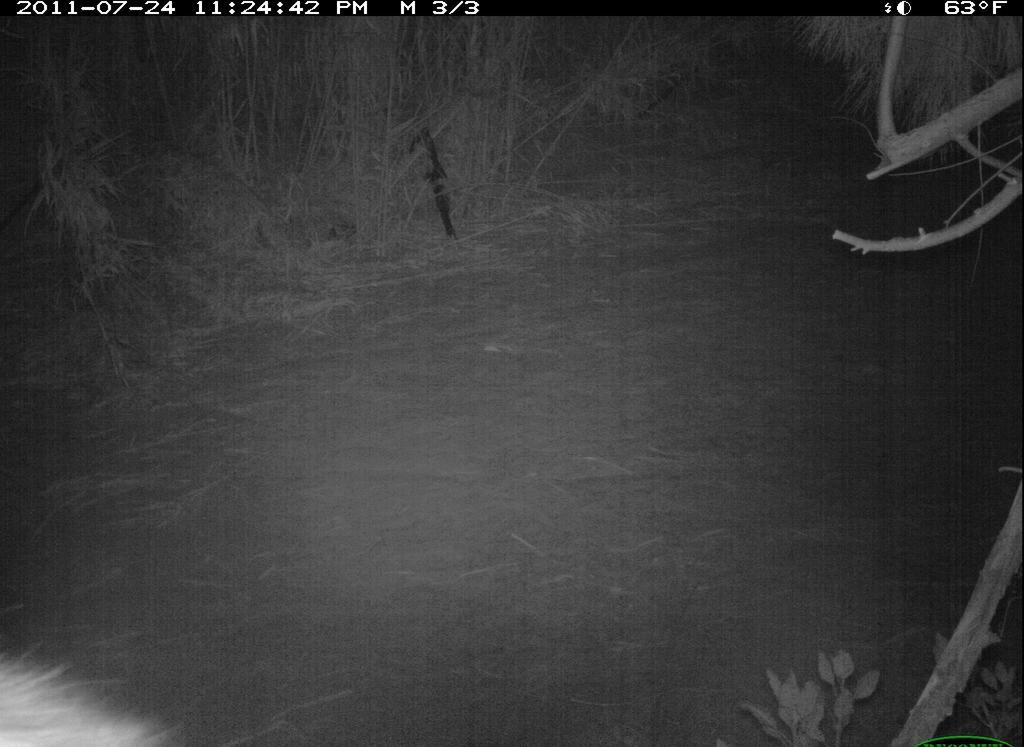raccoon: (4, 628, 209, 747)
